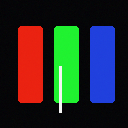4 line_v: (59, 66, 61, 112)
